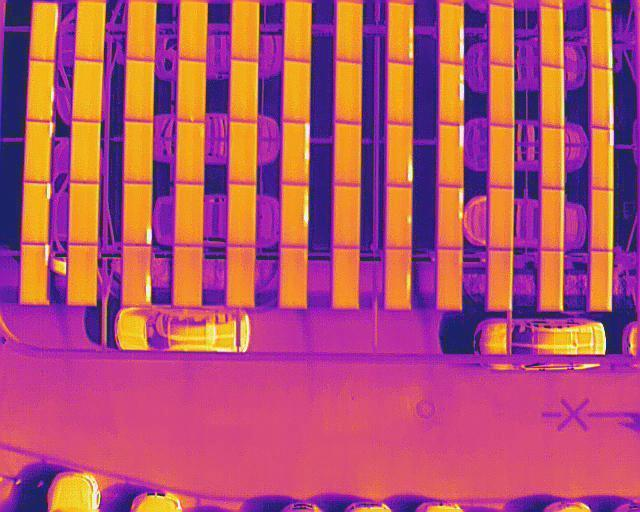Cell: (387, 186, 412, 249)
No-Anomaly: (71, 121, 101, 183), (76, 0, 106, 62), (68, 245, 98, 306), (73, 61, 103, 122), (69, 182, 98, 245), (174, 247, 203, 309), (126, 60, 155, 122), (127, 0, 156, 60), (229, 184, 257, 246), (228, 246, 256, 308), (333, 248, 361, 310), (125, 122, 153, 183), (232, 0, 260, 61), (178, 61, 206, 122), (180, 0, 208, 61), (177, 184, 204, 247), (230, 121, 257, 184), (281, 247, 308, 310), (284, 60, 311, 123), (334, 186, 361, 248), (177, 122, 204, 184), (285, 0, 312, 62), (232, 60, 259, 121), (336, 62, 362, 124), (336, 0, 362, 62), (335, 124, 361, 185), (389, 62, 414, 125), (437, 249, 462, 311), (541, 4, 565, 68), (539, 250, 564, 311), (490, 3, 514, 66), (490, 64, 514, 127), (491, 124, 514, 189), (591, 190, 615, 252), (540, 189, 564, 251), (489, 249, 513, 311), (542, 127, 565, 189), (491, 187, 514, 249), (542, 66, 565, 128), (590, 252, 613, 312)
Unclassified: (124, 183, 153, 245), (24, 121, 53, 182), (23, 181, 51, 244), (21, 244, 49, 306), (124, 245, 152, 307), (30, 0, 58, 61), (283, 122, 310, 185), (282, 185, 309, 247), (388, 125, 415, 187), (28, 60, 55, 122), (437, 188, 464, 249), (385, 249, 412, 310), (439, 2, 465, 65), (439, 62, 465, 125), (439, 126, 465, 188), (390, 1, 415, 65), (590, 67, 615, 131), (590, 5, 613, 70), (592, 129, 615, 191)
